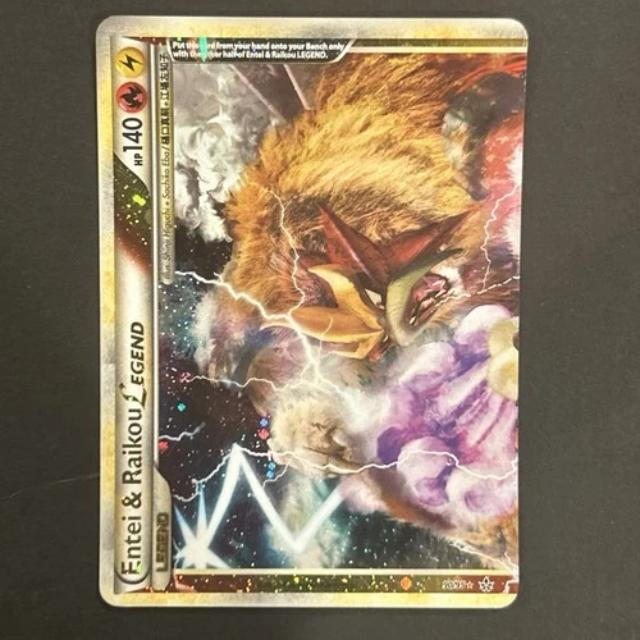Card: (90, 10, 533, 614)
Name: (116, 312, 151, 585)
